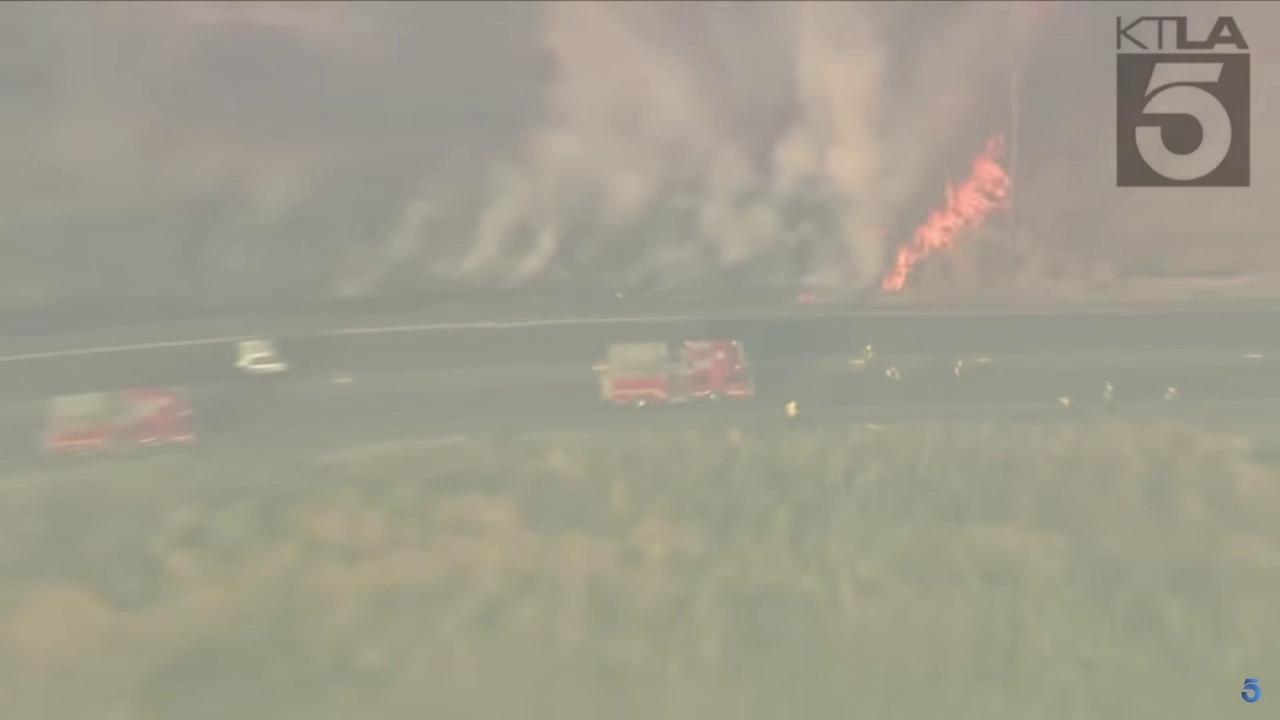fire: (878, 131, 1013, 294), (794, 294, 816, 303)
smoke: (0, 0, 1055, 304)
